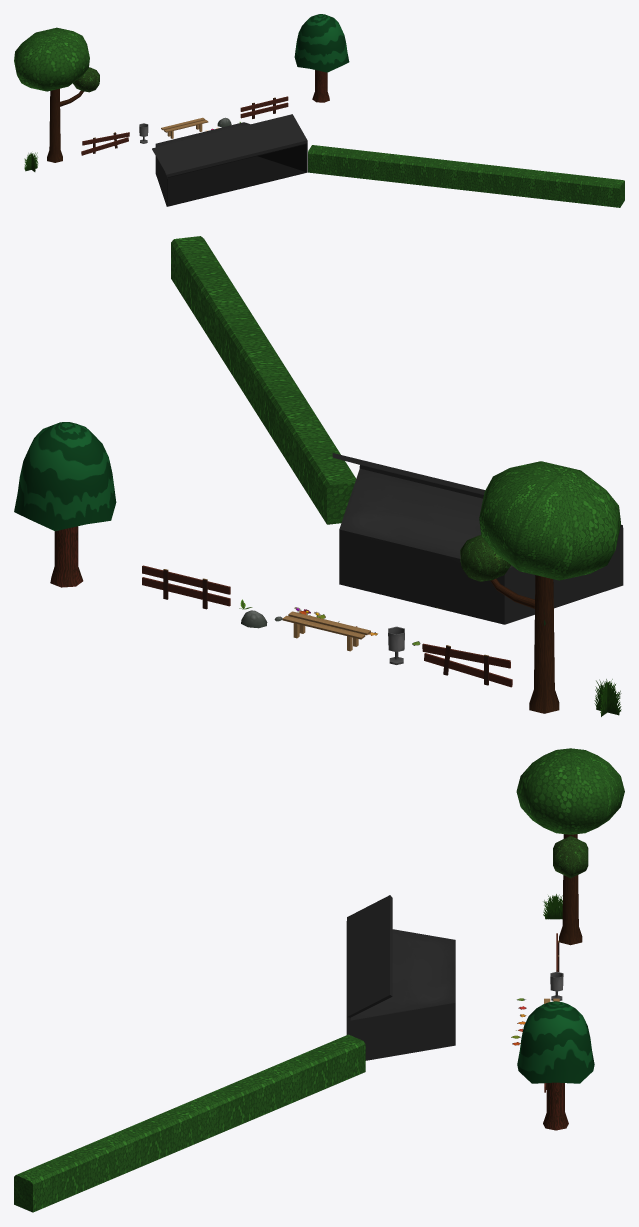
The model's file is MASTERSCENE.fbx.
The picture shows the model from 3 angles, top to bottom: view 1: azimuth 30°, elevation 25°; view 2: azimuth 150°, elevation 25°; view 3: azimuth 270°, elevation 25°; orthographic projection. The views are drawn at different scales.
Parts seen in each view (by area): view 1: park_leafcollector_1:pasted__pCube1, pCube1, polySurface4, polySurface2, polySurface12, polySurface17, polySurface22; view 2: park_leafcollector_1:pasted__pCube1, polySurface4, pCube1, polySurface2, polySurface12, polySurface17, polySurface22, polySurface1; view 3: pCube1, park_leafcollector_1:pasted__pCube1, polySurface4, polySurface2.
Boxes of the visible parts, x1,y1,x2,y2 form: park_leafcollector_1:pasted__pCube1: (152, 114, 307, 206); pCube1: (308, 145, 624, 207); polySurface4: (14, 27, 99, 162); polySurface2: (294, 14, 349, 102); polySurface12: (240, 96, 288, 118); polySurface17: (81, 132, 129, 155); polySurface22: (161, 117, 208, 138); park_leafcollector_1:pasted__pCube1: (332, 453, 623, 624); polySurface4: (460, 461, 620, 713); pCube1: (171, 236, 355, 524); polySurface2: (14, 422, 116, 587); polySurface12: (142, 565, 230, 609); polySurface17: (422, 643, 512, 687); polySurface22: (282, 611, 370, 651); polySurface1: (594, 679, 621, 716); pCube1: (14, 1034, 365, 1212); park_leafcollector_1:pasted__pCube1: (346, 895, 455, 1060); polySurface4: (516, 748, 624, 945); polySurface2: (517, 1001, 594, 1130).
Size of what is drawn, in the model's own units: 22.55 by 6.45 by 19.39.
